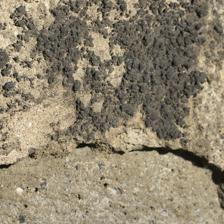Crack: (81, 136, 224, 205)
